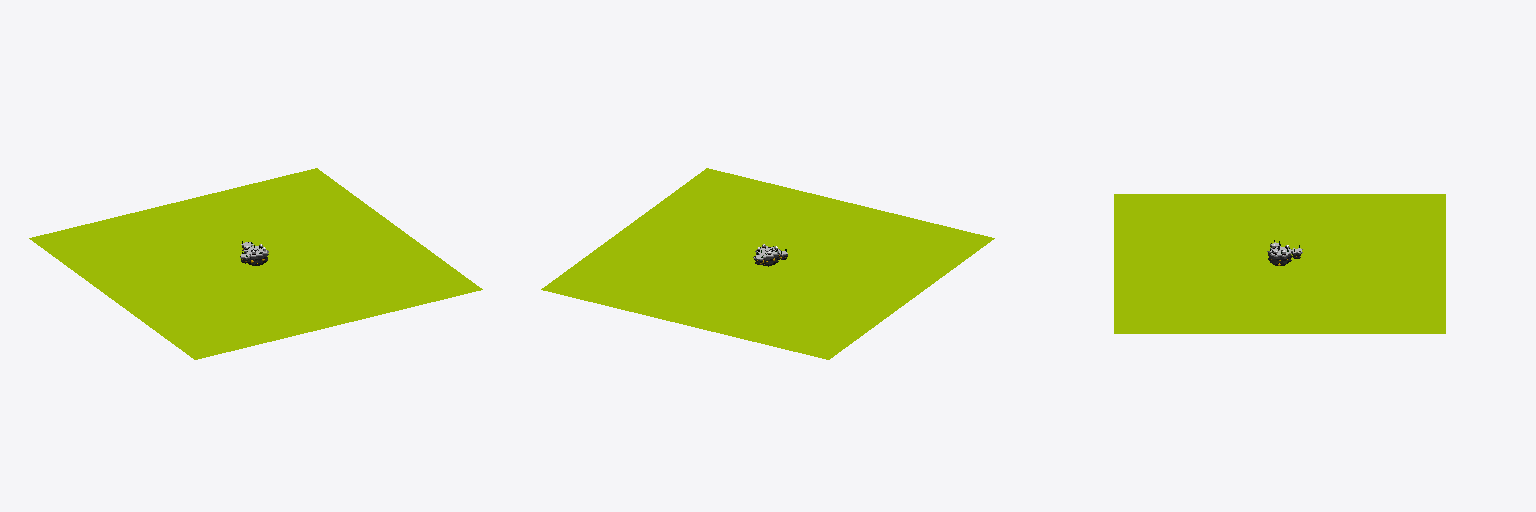
Rendered from lowpolywinter.obj.
3 views of the same model, side by side, from view 1: azimuth 30°, elevation 25°; view 2: azimuth 150°, elevation 25°; view 3: azimuth 270°, elevation 25° (orthographic).
Visible parts, largest first — view 1: Plane_Plane.041; view 2: Plane_Plane.041; view 3: Plane_Plane.041.
Part boxes in pixels (left/top/right/bottom): Plane_Plane.041: left=29, top=168, right=482, bottom=359; Plane_Plane.041: left=541, top=168, right=994, bottom=359; Plane_Plane.041: left=1114, top=194, right=1445, bottom=333.
Size of the model in its own units: 39.86 by 2.54 by 39.86.